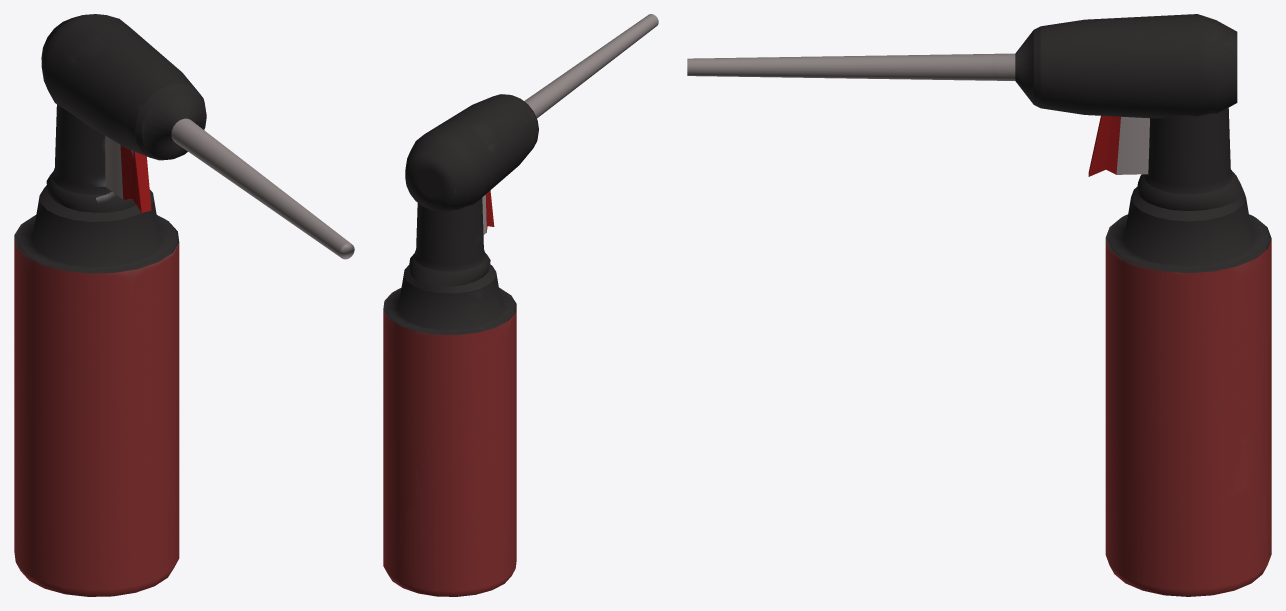
The model's file is Maçarico.fbx.
The picture shows the model from 3 angles, left to right: view 1: azimuth 30°, elevation 25°; view 2: azimuth 150°, elevation 25°; view 3: azimuth 270°, elevation 25°; orthographic projection. The views are drawn at different scales.
Parts seen in each view (by area): view 1: pCylinder1, pCylinder2; view 2: pCylinder1, pCylinder2; view 3: pCylinder1, pCylinder2.
Boxes of the visible parts, <box> form: pCylinder1: <box>14,105,179,596</box>; pCylinder2: <box>41,14,354,259</box>; pCylinder1: <box>383,190,516,596</box>; pCylinder2: <box>405,14,658,211</box>; pCylinder1: <box>1088,108,1271,596</box>; pCylinder2: <box>687,14,1237,118</box>.
Size of the model in its own units: 1.15 by 4.15 by 4.03.
